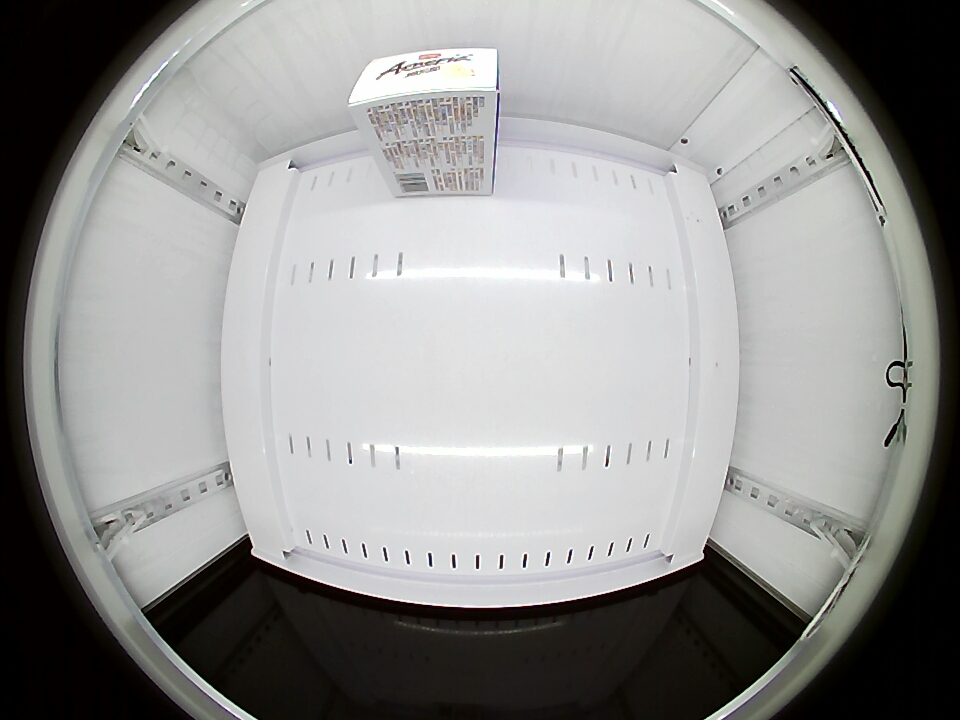meiniye: (346, 47, 500, 138)
